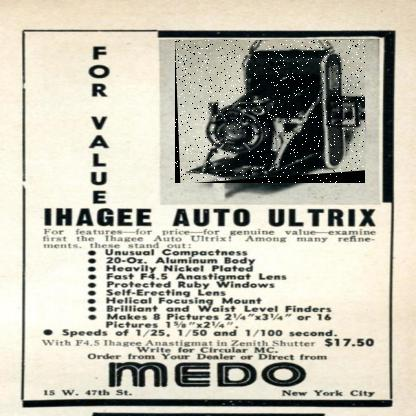Camera: (176, 41, 367, 185)
